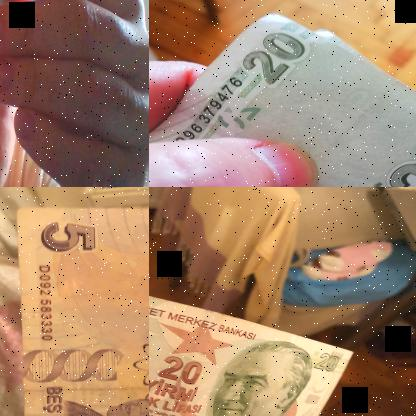5 TL: (149, 13, 415, 186)
